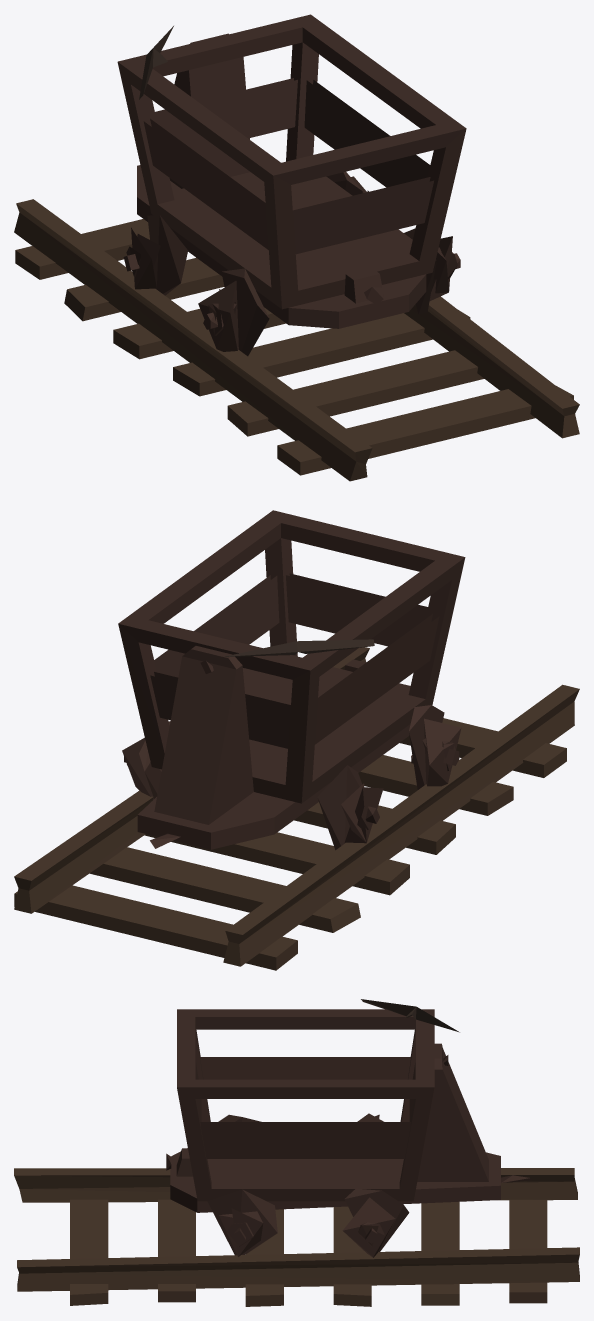
File: mine-cart.lod1.glb
3 views of the same model, one above another, from view 1: azimuth 30°, elevation 25°; view 2: azimuth 150°, elevation 25°; view 3: azimuth 270°, elevation 25° (orthographic). The views are drawn at different scales.
Visible parts, largest first — view 1: defaultMaterial; view 2: defaultMaterial; view 3: defaultMaterial.
Part boxes in pixels (x1,y1,x2,y2): defaultMaterial: (14,14,579,481); defaultMaterial: (14,510,579,970); defaultMaterial: (14,999,579,1306).
Bounding box in the file's own units: 1.04 × 0.9186 × 2.2.
